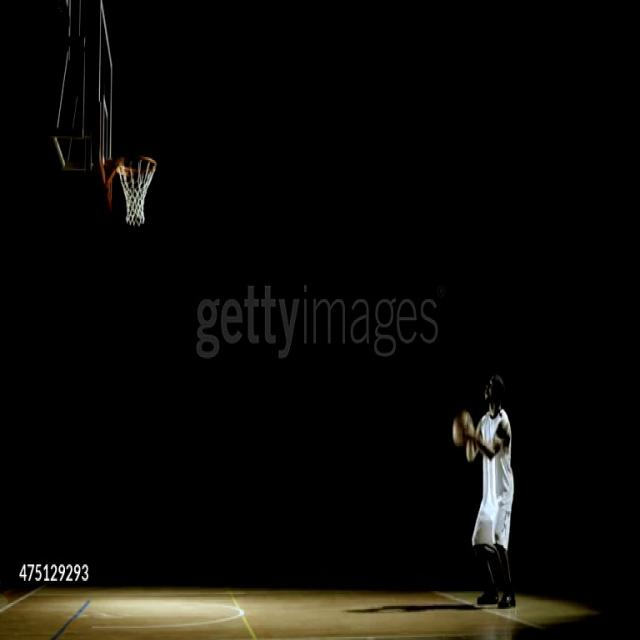ball: (452, 410, 473, 448)
